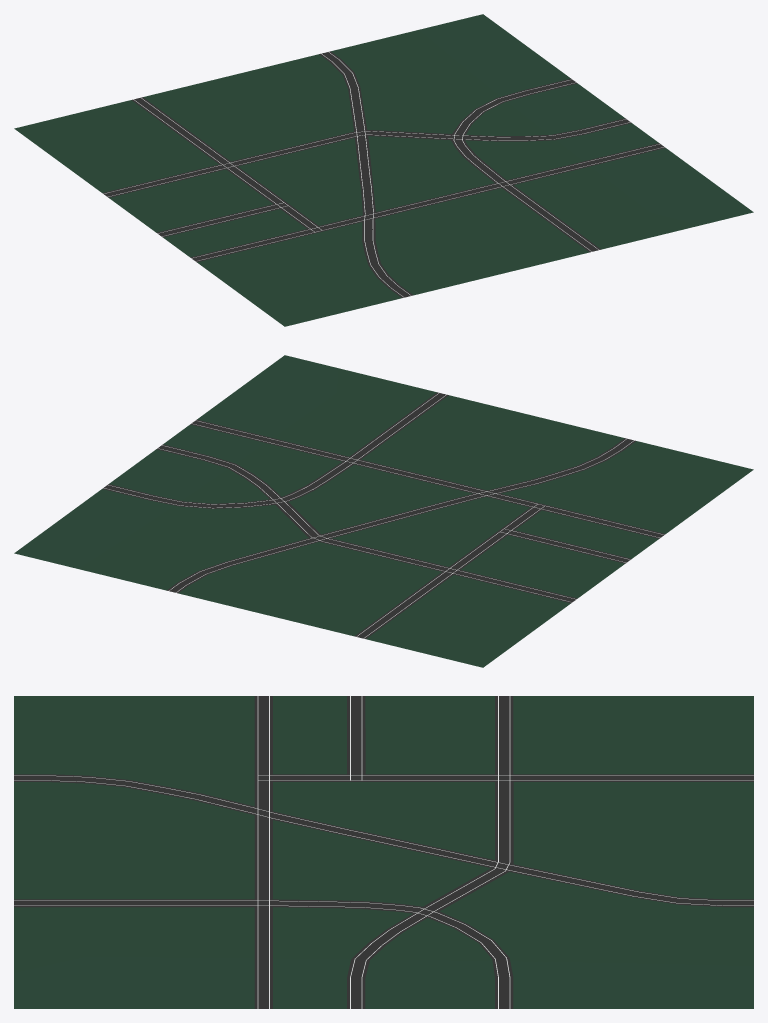
File: Road_Map_FBX.fbx
3 views of the same model, one above another, from view 1: azimuth 30°, elevation 25°; view 2: azimuth 150°, elevation 25°; view 3: azimuth 270°, elevation 25° (orthographic). The views are drawn at different scales.
Visible parts, largest first — view 1: pPlane3; view 2: pPlane3; view 3: pPlane3.
Boxes of the visible parts, bbox=[...] form: pPlane3: bbox=[14, 14, 753, 326]; pPlane3: bbox=[14, 355, 753, 667]; pPlane3: bbox=[14, 696, 753, 1008].
Size of the model in its own units: 30000 by 0.5 by 30000.
